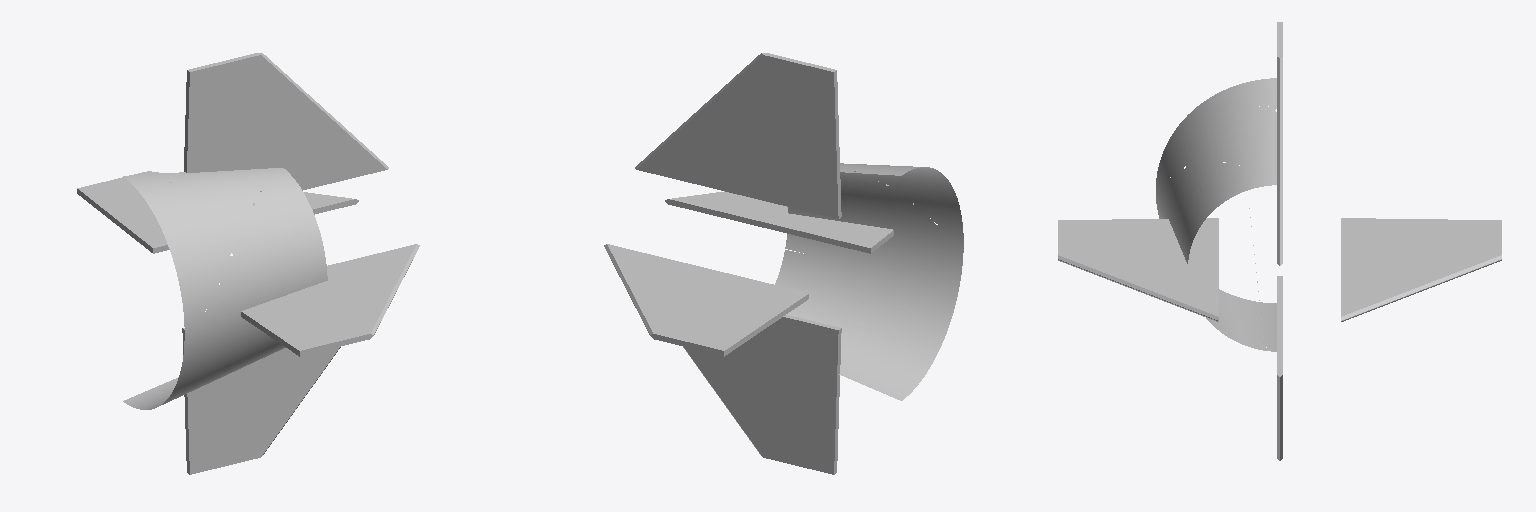
3 renders of one model, left to right at view 1: azimuth 30°, elevation 25°; view 2: azimuth 150°, elevation 25°; view 3: azimuth 270°, elevation 25°, orthographic.
Visible parts, largest first — view 1: Part__Feature032, Part__Feature017, Part__Feature, Part__Feature008, Part__Feature025; view 2: Part__Feature032, Part__Feature016, Part__Feature001, Part__Feature025, Part__Feature008, Part__Feature010; view 3: Part__Feature032, Part__Feature025, Part__Feature008, Part__Feature015, Part__Feature030, Part__Feature022, Part__Feature023, Part__Feature002.
Boxes of the visible parts, x1,y1,x2,y2 form: Part__Feature032: [123, 168, 327, 409]; Part__Feature017: [187, 55, 387, 191]; Part__Feature: [187, 347, 339, 474]; Part__Feature008: [241, 244, 416, 350]; Part__Feature025: [77, 171, 353, 247]; Part__Feature032: [775, 163, 963, 400]; Part__Feature016: [636, 55, 838, 218]; Part__Feature001: [684, 317, 838, 474]; Part__Feature025: [607, 244, 808, 350]; Part__Feature008: [670, 181, 913, 247]; Part__Feature010: [665, 199, 870, 253]; Part__Feature032: [1156, 78, 1276, 351]; Part__Feature025: [1341, 218, 1501, 316]; Part__Feature008: [1058, 218, 1218, 316]; Part__Feature015: [1058, 255, 1218, 320]; Part__Feature030: [1341, 255, 1501, 320]; Part__Feature022: [1277, 57, 1279, 265]; Part__Feature023: [1280, 57, 1282, 265]; Part__Feature002: [1277, 276, 1282, 376].
Bounding box in the file's own units: 51127 × 73660 × 73660.